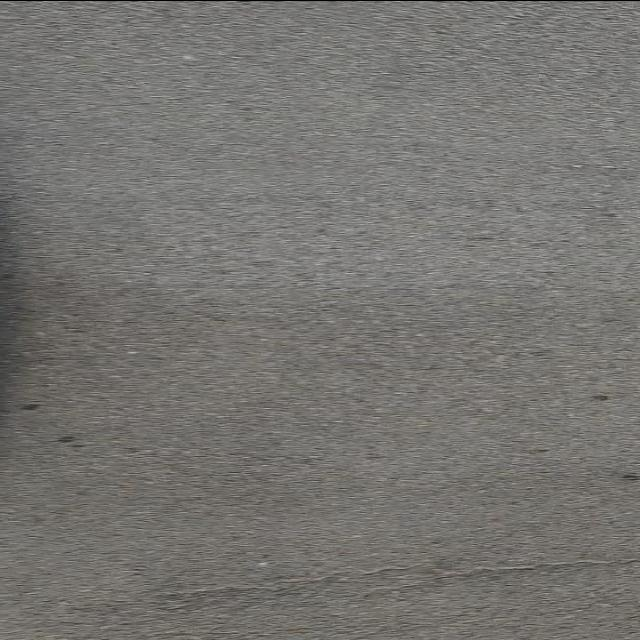cracks: (99, 540, 637, 619)
